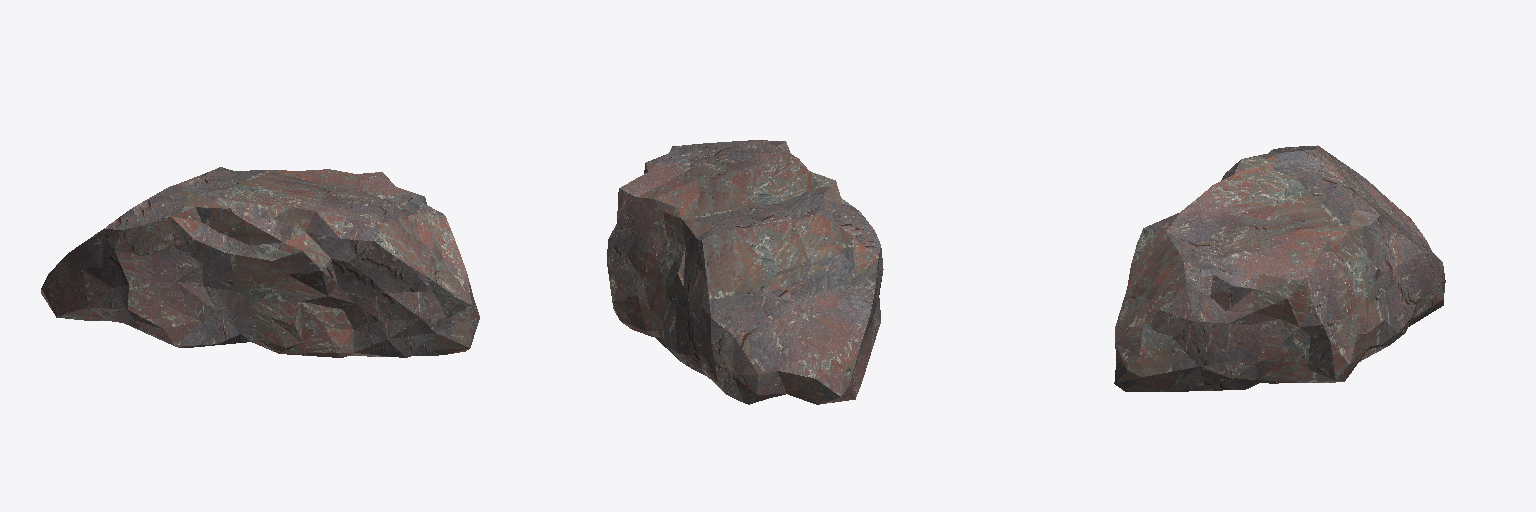
3 renders of one model, left to right at view 1: azimuth 30°, elevation 25°; view 2: azimuth 150°, elevation 25°; view 3: azimuth 270°, elevation 25°, orthographic.
Visible parts, largest first — view 1: Mesh1 skpD4_1 Model; view 2: Mesh1 skpD4_1 Model; view 3: Mesh1 skpD4_1 Model.
Part boxes in pixels (x1,y1,x2,y2): Mesh1 skpD4_1 Model: (41,167,479,357); Mesh1 skpD4_1 Model: (607,140,883,404); Mesh1 skpD4_1 Model: (1114,145,1445,391).
Size of the model in its own units: 0.1096 by 0.0533 by 0.1062.
1 materials, 1 textured.